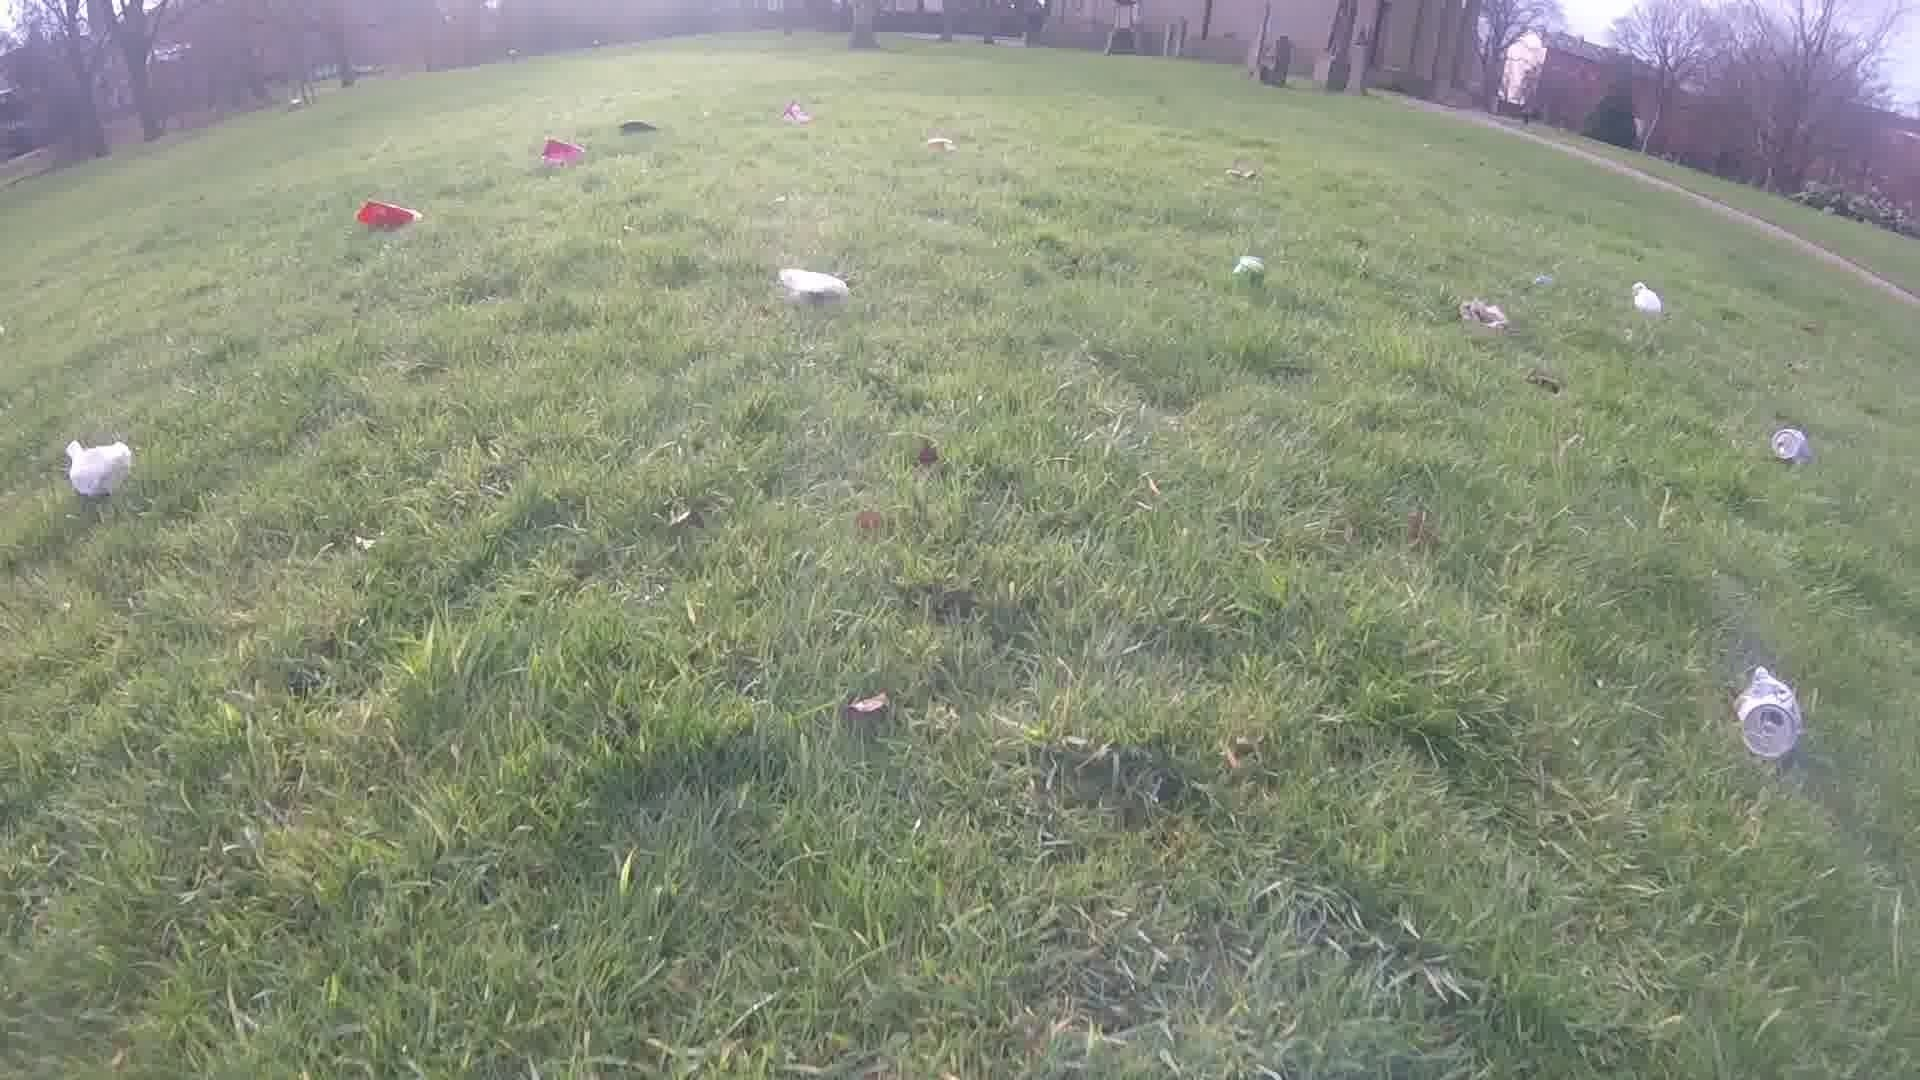litter: (1731, 666, 1803, 758), (62, 435, 135, 496), (775, 266, 845, 301), (1457, 298, 1509, 334), (352, 198, 418, 225), (535, 135, 585, 167), (1768, 427, 1805, 463), (1627, 280, 1664, 313), (1234, 255, 1266, 287), (781, 100, 808, 123), (613, 119, 651, 135), (1224, 165, 1259, 177), (923, 138, 951, 152)
